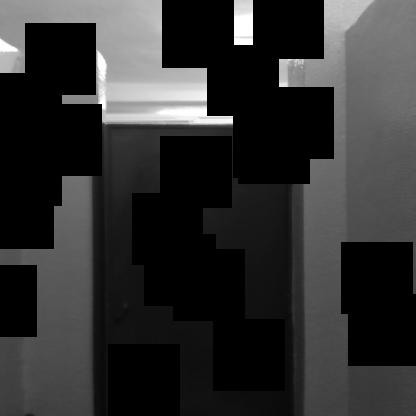Porte: (89, 119, 308, 416)
